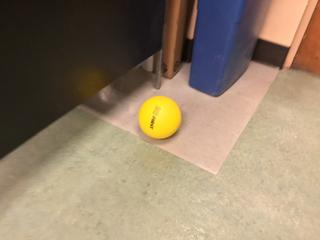power_cell: (138, 92, 186, 142)
